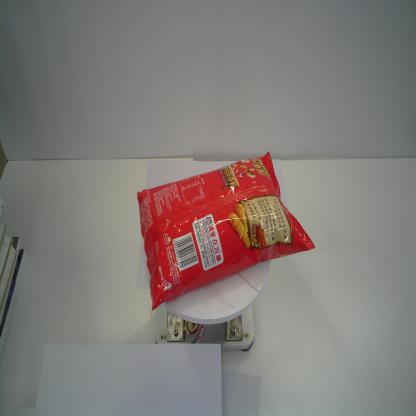Puffed Food: (133, 150, 317, 315)
